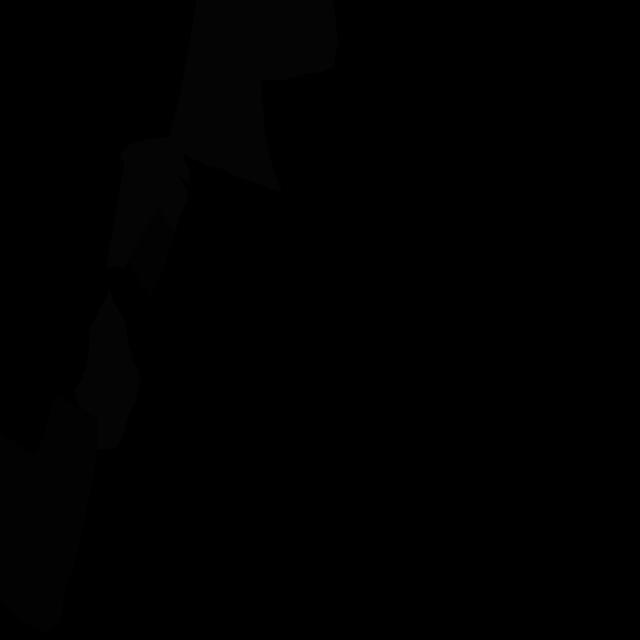cardboard: (0, 394, 97, 633), (128, 202, 175, 300)
soft_plastic: (170, 0, 338, 192), (106, 137, 190, 269), (74, 289, 140, 449), (160, 175, 188, 233)
